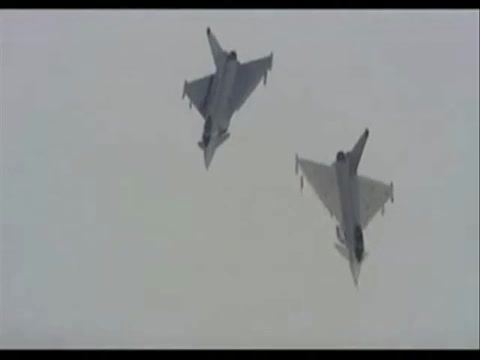aeroplane: (181, 29, 275, 173)
